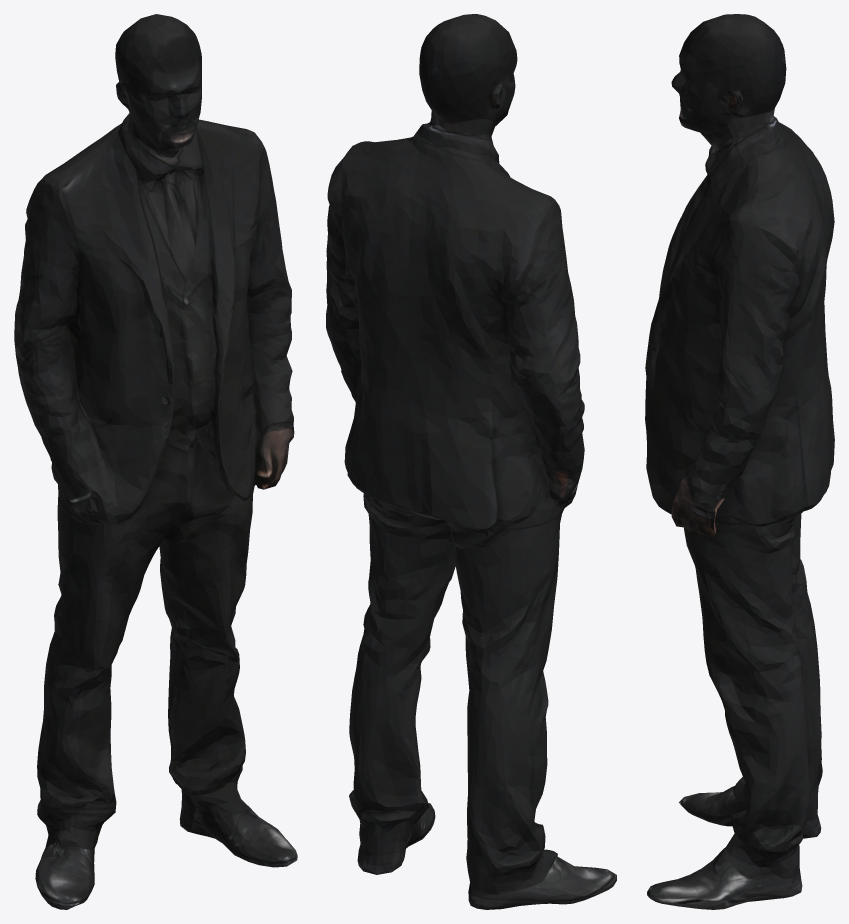
Rendered from Человек_пол_0427163030_texture.fbx.
The picture shows the model from 3 angles, left to right: view 1: azimuth 30°, elevation 25°; view 2: azimuth 150°, elevation 25°; view 3: azimuth 270°, elevation 25°; orthographic projection.
Visible parts, largest first — view 1: temp; view 2: temp; view 3: temp.
Part boxes in pixels (box(x1,y1,x2,y2)): temp: box(14, 14, 297, 909); temp: box(326, 14, 616, 909); temp: box(645, 14, 834, 909).
Size of the model in its own units: 63.88 by 200 by 40.62.
Materials: 1 (1 with a texture image).
